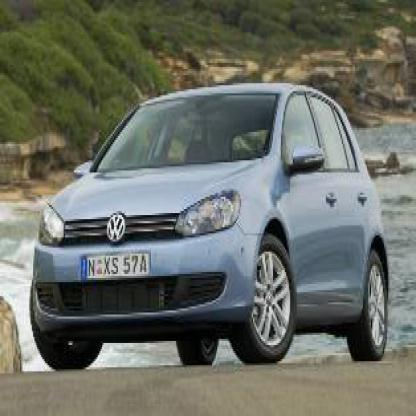Vehicle: (25, 86, 392, 376)
